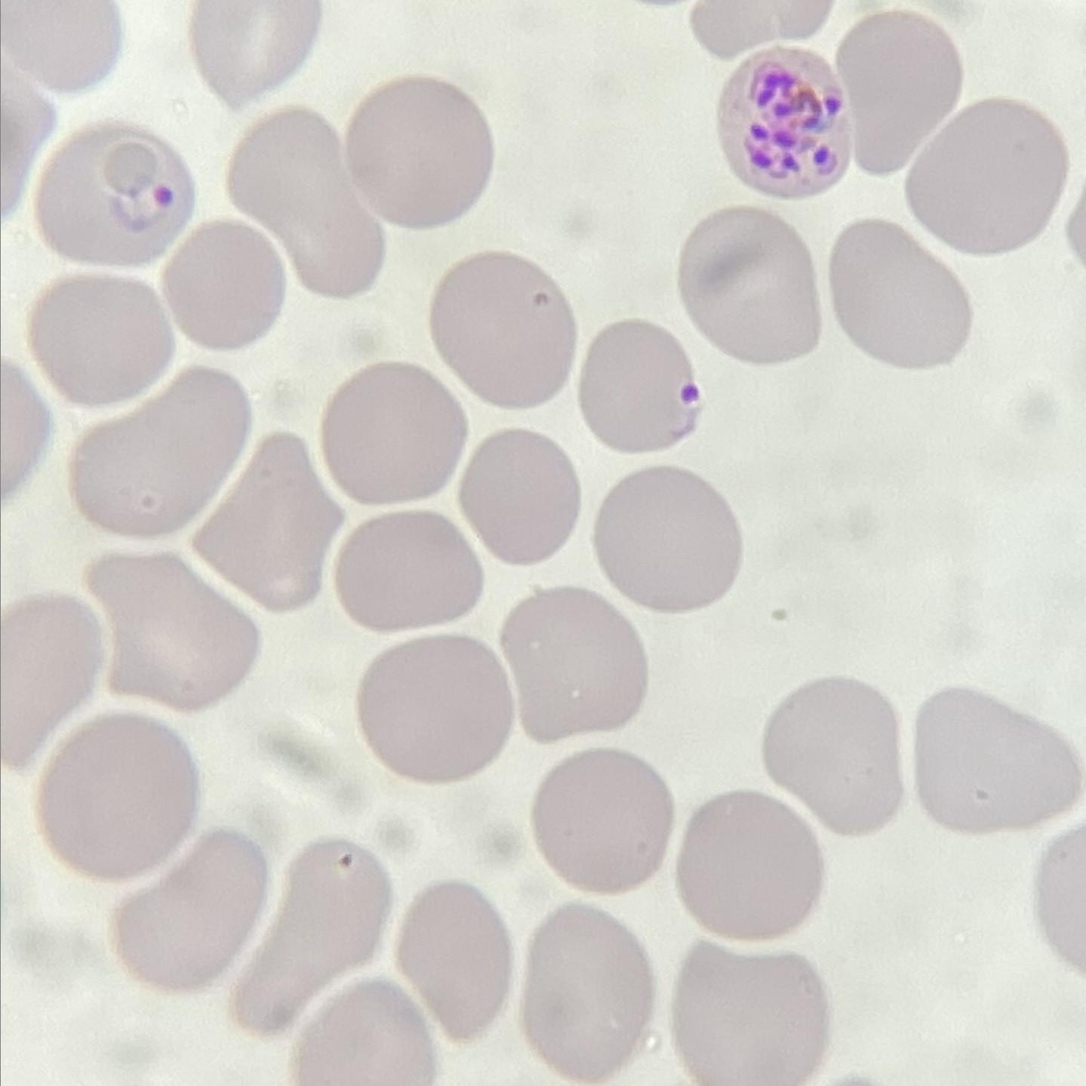Infected: (30, 125, 192, 272), (717, 46, 851, 197), (581, 317, 708, 458)
Uninfected: (232, 838, 392, 1037), (68, 363, 249, 538), (226, 114, 391, 296), (77, 546, 257, 711), (191, 429, 341, 610), (42, 712, 199, 880), (113, 831, 270, 995), (906, 98, 1069, 255), (914, 684, 1076, 838), (521, 906, 655, 1086), (430, 249, 578, 411), (343, 76, 495, 231), (762, 678, 907, 838), (674, 936, 827, 1086), (502, 587, 651, 741), (357, 636, 513, 783), (675, 789, 821, 943), (528, 748, 678, 895), (828, 217, 971, 370), (679, 208, 821, 359), (838, 8, 964, 175), (592, 470, 741, 610), (317, 365, 465, 504), (25, 276, 175, 411), (0, 595, 107, 770), (332, 510, 485, 627), (400, 878, 510, 1040), (460, 431, 583, 565), (158, 221, 284, 347), (294, 978, 436, 1086), (187, 0, 323, 109)
